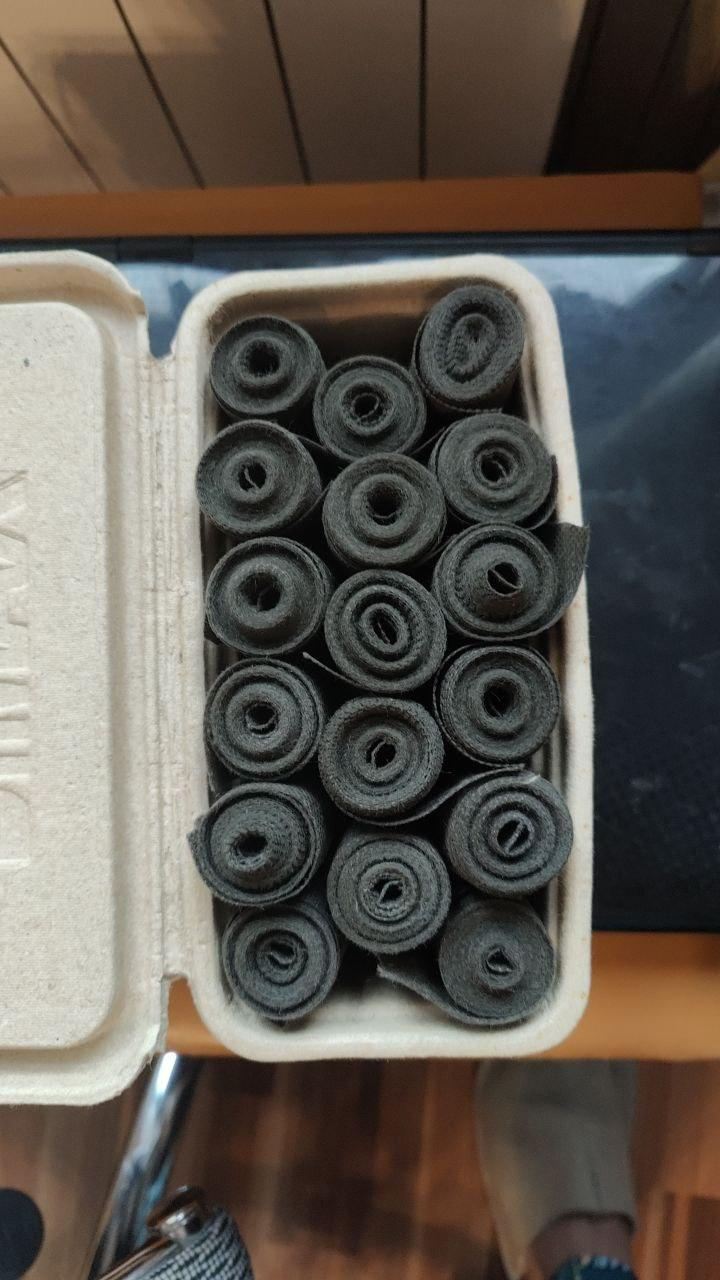roll: (431, 521, 571, 648), (314, 692, 448, 823), (440, 771, 577, 898), (187, 781, 327, 904), (430, 893, 560, 1024), (433, 641, 566, 767), (324, 827, 453, 956), (201, 534, 331, 661), (411, 284, 530, 422), (320, 569, 449, 696), (217, 895, 344, 1023), (431, 411, 561, 535), (319, 454, 449, 577), (201, 657, 327, 782), (194, 420, 325, 538), (206, 313, 327, 429), (310, 356, 428, 468)
